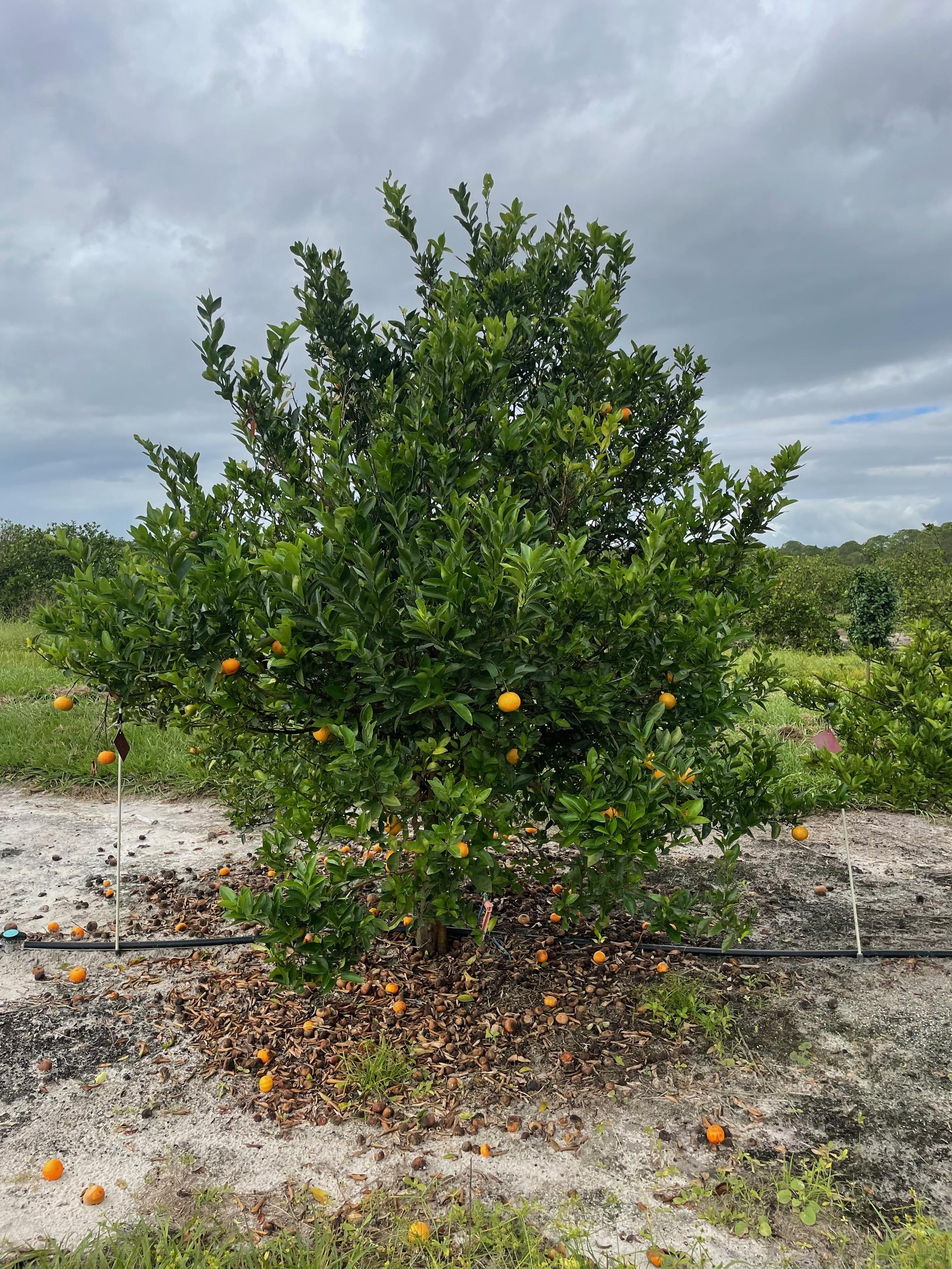fruit_on_ground: (638, 748, 666, 776), (670, 763, 696, 789), (648, 762, 673, 789), (496, 689, 523, 714), (594, 804, 620, 827), (311, 720, 336, 743), (217, 655, 242, 678), (381, 814, 405, 837), (269, 636, 293, 659), (656, 690, 679, 712), (51, 693, 76, 713), (503, 744, 525, 766), (450, 839, 471, 860), (614, 406, 635, 426), (96, 747, 117, 766), (790, 824, 810, 843), (595, 400, 616, 418), (183, 703, 198, 718), (188, 745, 201, 757), (187, 530, 199, 542)
fruit_on_tree: (406, 1219, 432, 1245), (40, 1158, 65, 1183), (80, 1182, 106, 1206), (644, 1243, 668, 1267), (704, 1122, 727, 1145), (255, 1047, 275, 1065), (257, 1073, 274, 1092), (68, 965, 87, 982), (421, 1111, 438, 1129), (358, 980, 377, 996), (36, 1056, 53, 1073), (68, 925, 85, 942), (410, 1155, 427, 1171), (541, 993, 558, 1009), (502, 1016, 519, 1032), (370, 1100, 388, 1115), (477, 1142, 493, 1158), (2, 919, 19, 934), (364, 891, 380, 906), (515, 911, 531, 926), (383, 980, 399, 995), (392, 1000, 408, 1015), (534, 947, 549, 963), (400, 913, 415, 928), (654, 960, 670, 974), (264, 864, 279, 878), (554, 1010, 569, 1024), (559, 1050, 574, 1064), (591, 949, 606, 963), (812, 883, 828, 896), (381, 1105, 395, 1119), (85, 918, 99, 932), (550, 881, 564, 895), (302, 1019, 316, 1033), (541, 932, 556, 945), (366, 905, 380, 918), (548, 910, 562, 923), (46, 919, 60, 932), (31, 965, 45, 977), (174, 920, 188, 932), (218, 864, 232, 876), (640, 918, 653, 930), (524, 822, 537, 834), (362, 848, 374, 860), (327, 1054, 340, 1065), (490, 829, 502, 840), (368, 843, 380, 854), (339, 843, 351, 854), (139, 872, 151, 883), (101, 877, 112, 888), (103, 888, 115, 898)
